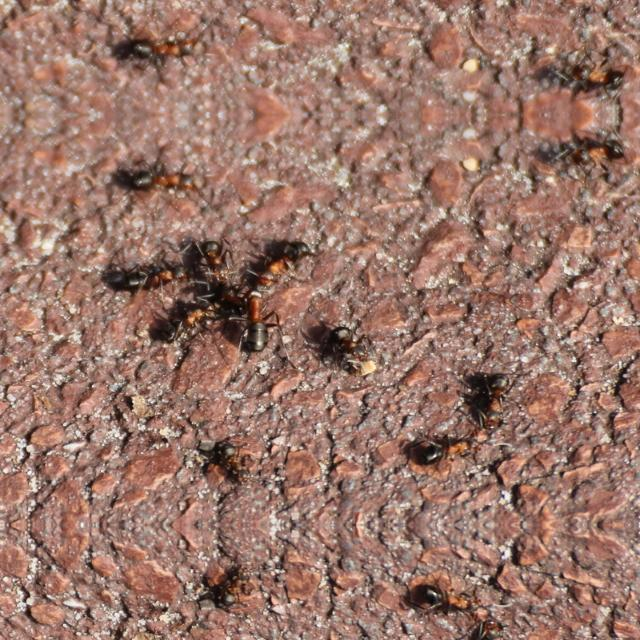Formica: (121, 150, 222, 218), (121, 10, 222, 78), (460, 361, 528, 435), (556, 126, 640, 182), (556, 46, 640, 102), (156, 293, 226, 352), (258, 228, 322, 292), (234, 290, 286, 368), (410, 574, 480, 626), (410, 422, 480, 473), (193, 226, 247, 288), (318, 318, 382, 362), (120, 255, 190, 291), (460, 612, 528, 640)
